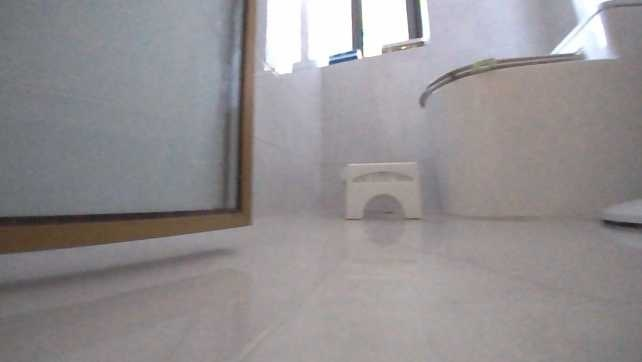plastic_stool: (340, 159, 425, 220)
toilet: (420, 0, 640, 221)
